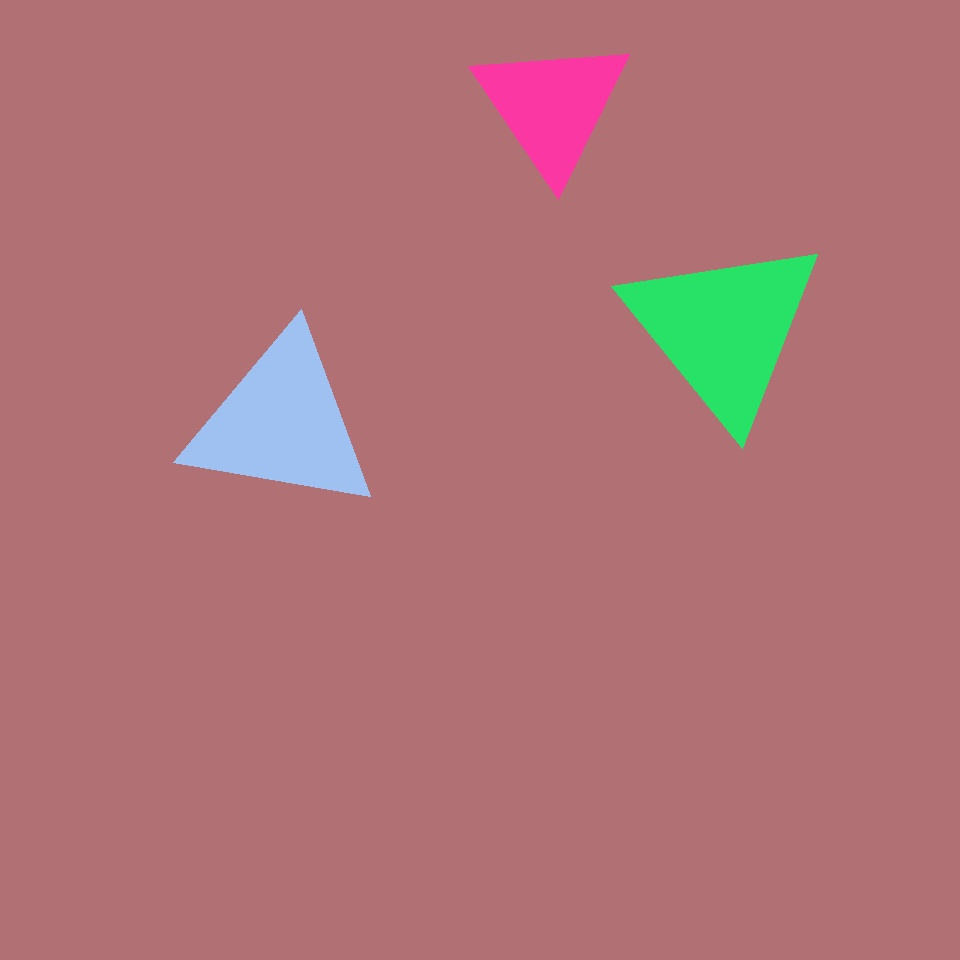circle: (446, 221, 725, 540), (621, 233, 827, 427), (184, 330, 380, 516), (434, 490, 603, 670), (471, 35, 632, 180)
square: (348, 178, 500, 329), (49, 220, 166, 337)
